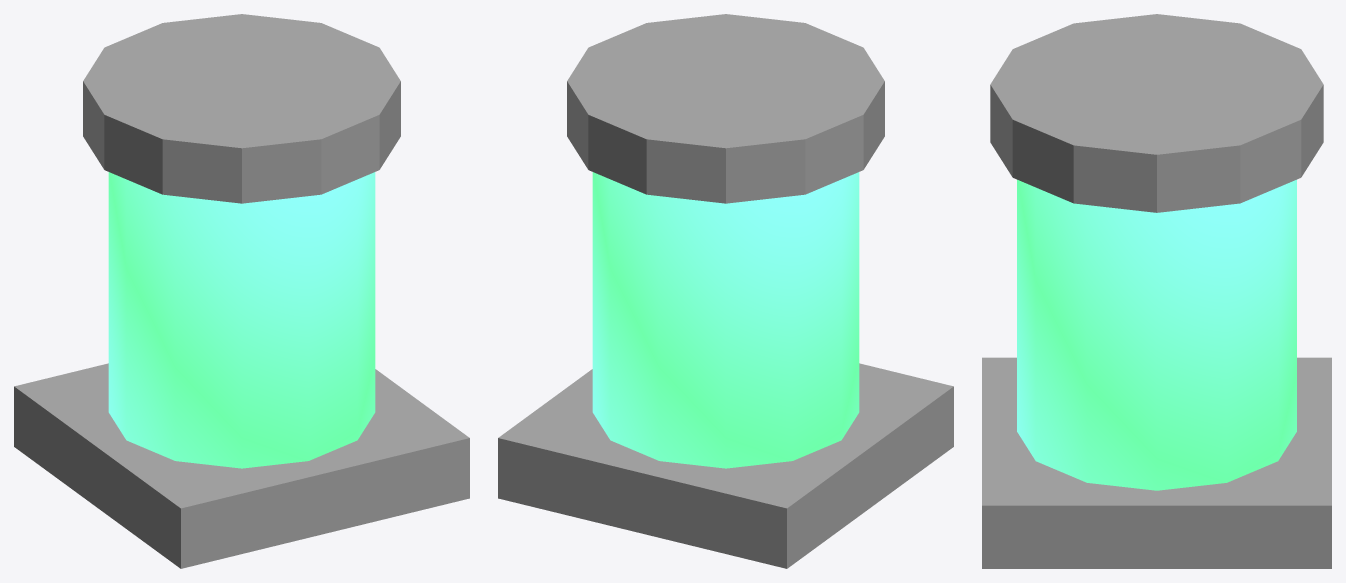
The model's file is 实验缸.fbx.
3 renders of one model, left to right at view 1: azimuth 30°, elevation 25°; view 2: azimuth 150°, elevation 25°; view 3: azimuth 270°, elevation 25°, orthographic. The views are drawn at different scales.
Parts seen in each view (by area): view 1: 柱体.002, 柱体.003, 立方体; view 2: 柱体.002, 柱体.003, 立方体; view 3: 柱体.002, 柱体.003, 立方体.
Boxes of the visible parts, box(x1,y1,x2,y2) form: 柱体.002: box(108, 172, 375, 468); 柱体.003: box(83, 14, 400, 203); 立方体: box(14, 363, 469, 568); 柱体.002: box(592, 172, 859, 468); 柱体.003: box(567, 14, 884, 203); 立方体: box(498, 363, 953, 568); 柱体.002: box(1017, 179, 1296, 490); 柱体.003: box(990, 14, 1323, 212); 立方体: box(982, 357, 1331, 568).
Size of the model in its own units: 200 by 259 by 200.
